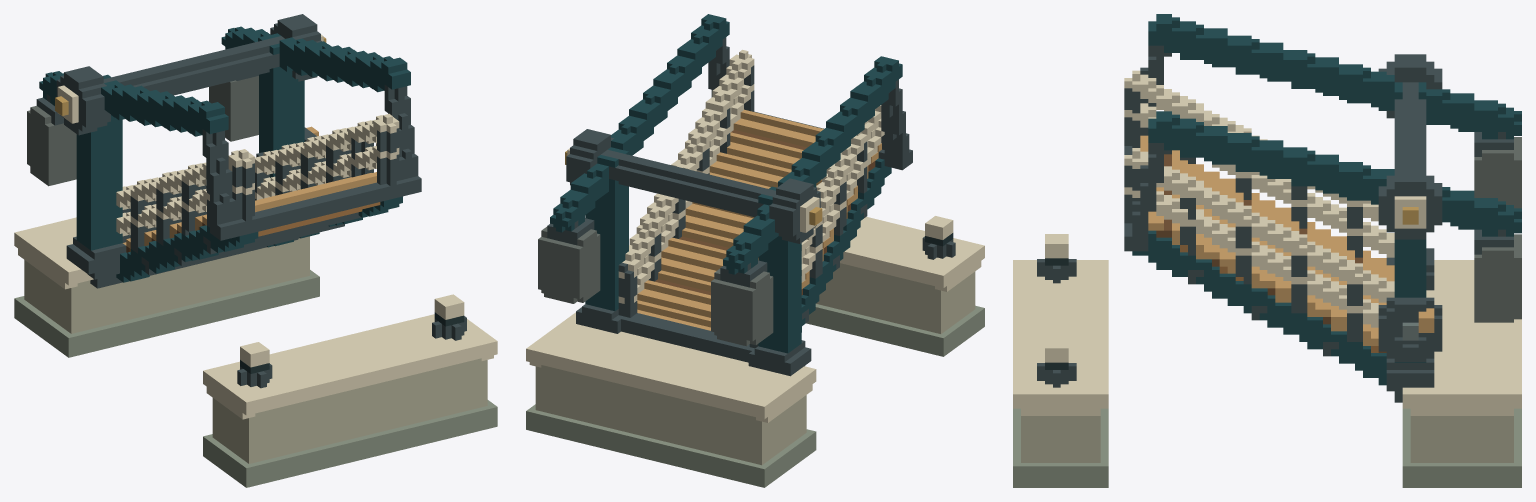
Rendered from drawbridge.glb.
3 views of the same model, side by side, from view 1: azimuth 30°, elevation 25°; view 2: azimuth 150°, elevation 25°; view 3: azimuth 270°, elevation 25° (orthographic). The views are drawn at different scales.
Parts seen in each view (by area): view 1: drawbridge; view 2: drawbridge; view 3: drawbridge.
Boxes of the visible parts, box(x1,y1,x2,y2) form: drawbridge: box(14, 14, 497, 487); drawbridge: box(526, 14, 984, 487); drawbridge: box(1013, 14, 1521, 487).
Bounding box in the file's own units: 5.46 × 6.37 × 8.32.
